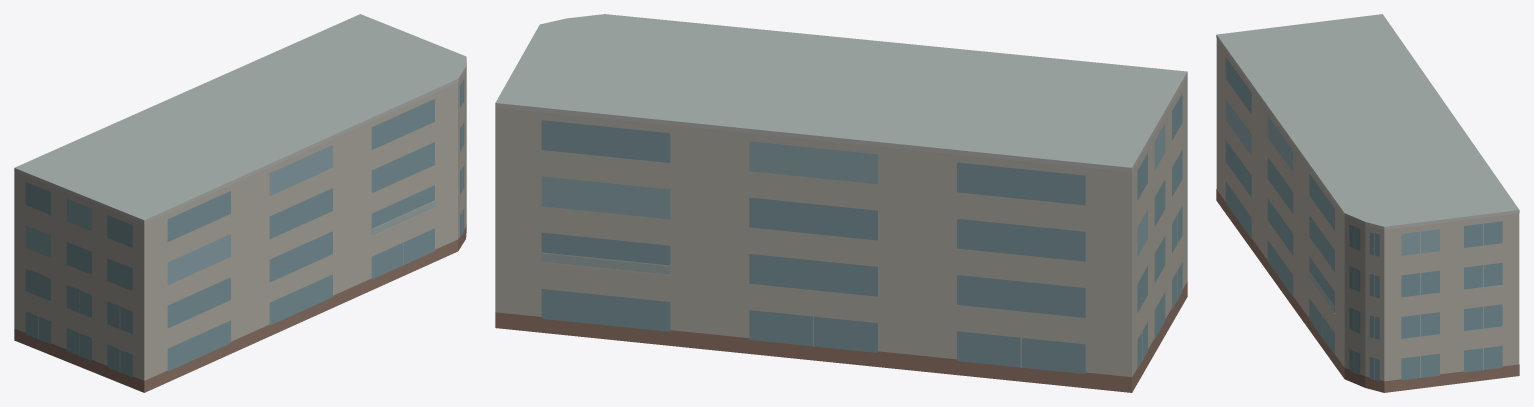
File: survey-upis-32839232.glb
3 renders of one model, left to right at view 1: azimuth 30°, elevation 25°; view 2: azimuth 150°, elevation 25°; view 3: azimuth 270°, elevation 25°, orthographic. The views are drawn at different scales.
Parts seen in each view (by area): view 1: survey-upis-32839232.tmp; view 2: survey-upis-32839232.tmp; view 3: survey-upis-32839232.tmp.
Boxes of the visible parts, box(x1,y1,x2,y2) form: survey-upis-32839232.tmp: box(14, 14, 466, 392); survey-upis-32839232.tmp: box(495, 14, 1187, 392); survey-upis-32839232.tmp: box(1216, 14, 1519, 392).
Bounding box in the file's own units: 33.96 × 12.35 × 20.43.
